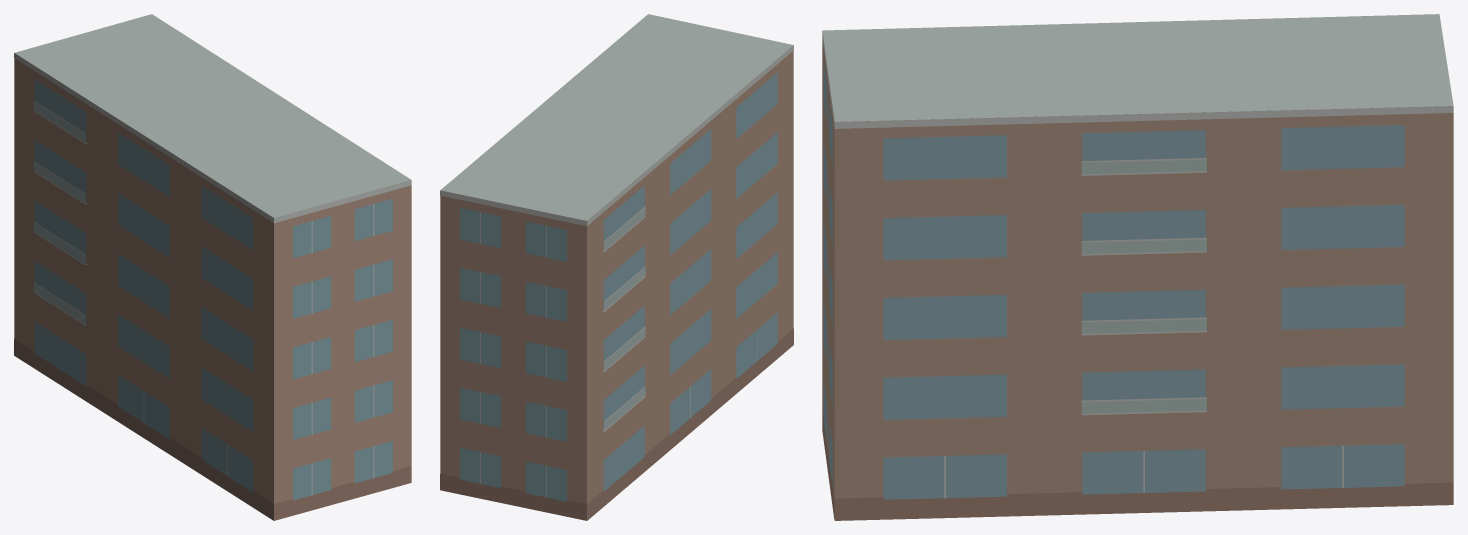
The model's file is survey-upis-32702902.glb.
3 views of the same model, side by side, from view 1: azimuth 30°, elevation 25°; view 2: azimuth 150°, elevation 25°; view 3: azimuth 270°, elevation 25° (orthographic). The views are drawn at different scales.
Parts seen in each view (by area): view 1: survey-upis-32702902.tmp; view 2: survey-upis-32702902.tmp; view 3: survey-upis-32702902.tmp.
Boxes of the visible parts, x1,y1,x2,y2 form: survey-upis-32702902.tmp: (14,14,411,520); survey-upis-32702902.tmp: (440,14,793,520); survey-upis-32702902.tmp: (822,14,1453,520).
Bounding box in the file's own units: 8.1 × 13.95 × 20.02.
